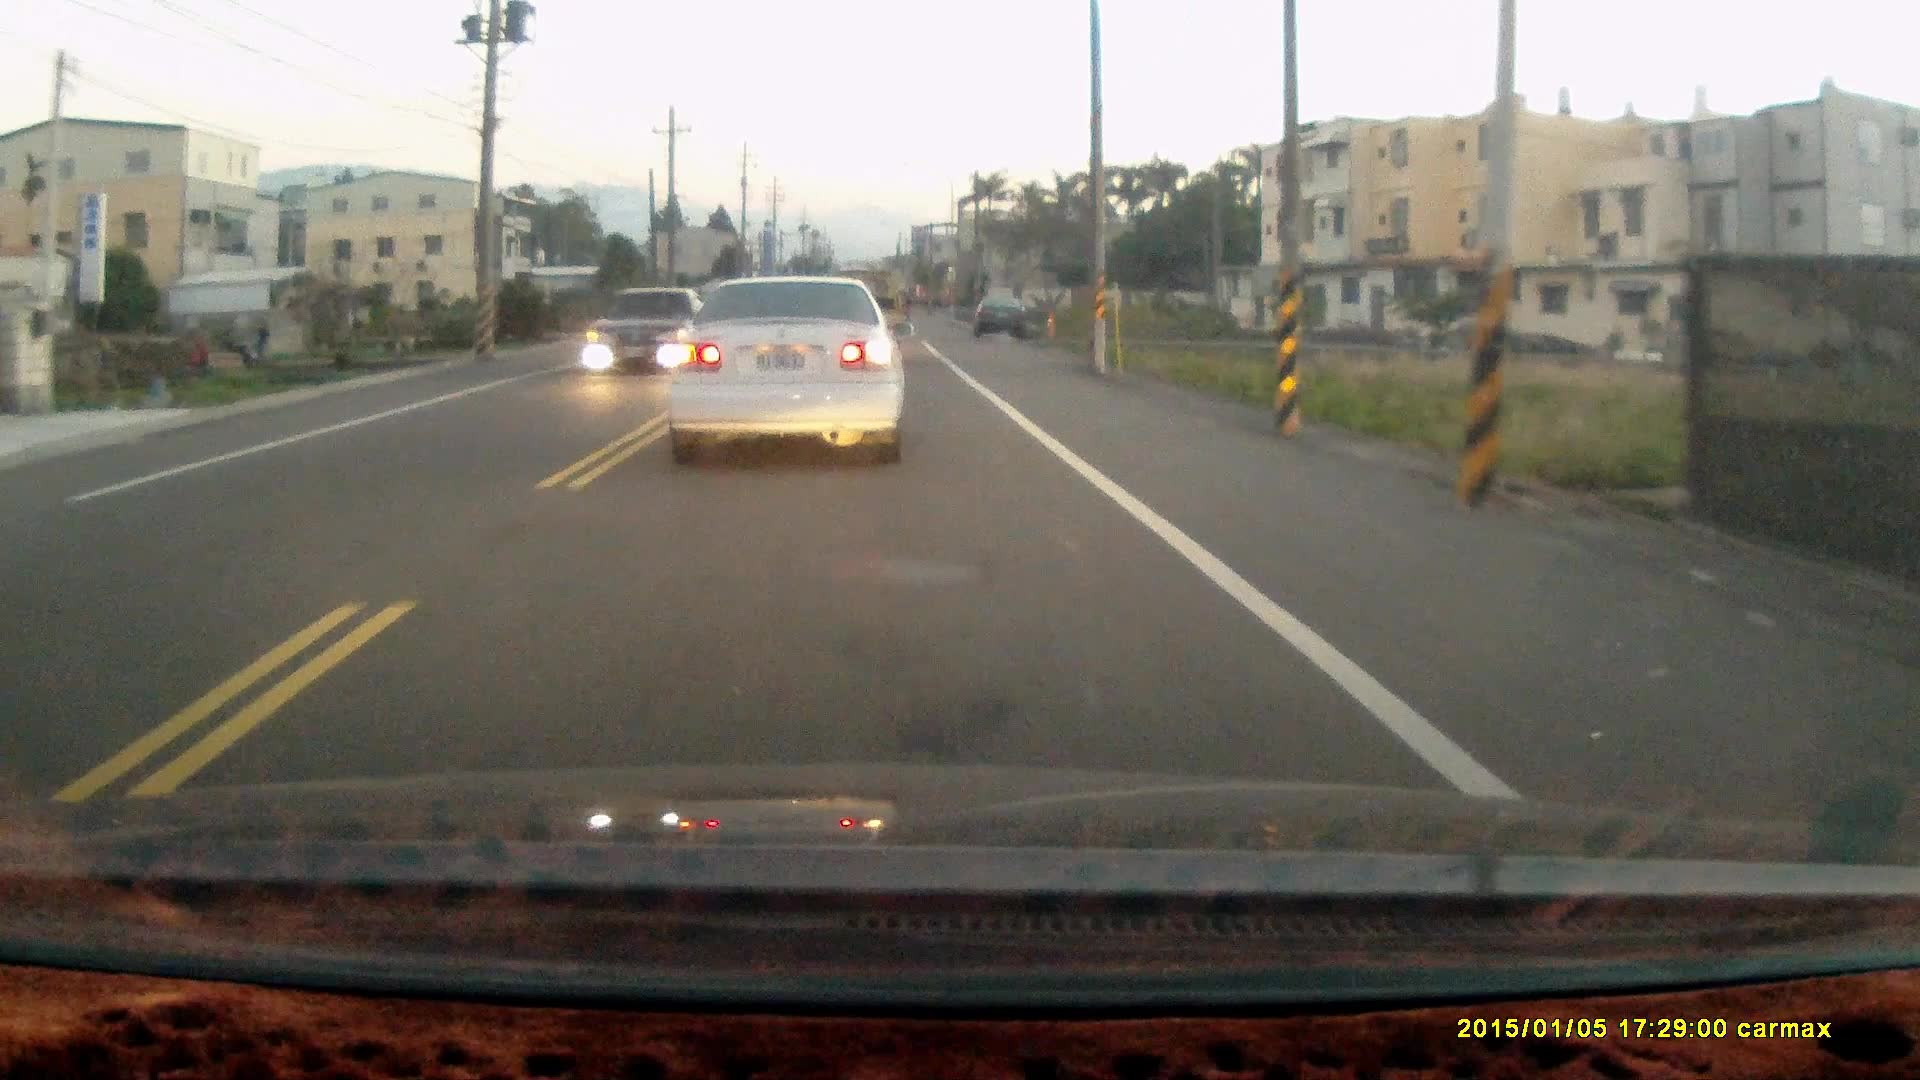pedestrian: (251, 319, 271, 368), (188, 338, 210, 383)
vehicle: (666, 277, 909, 475), (588, 290, 703, 380), (975, 296, 1040, 344)
